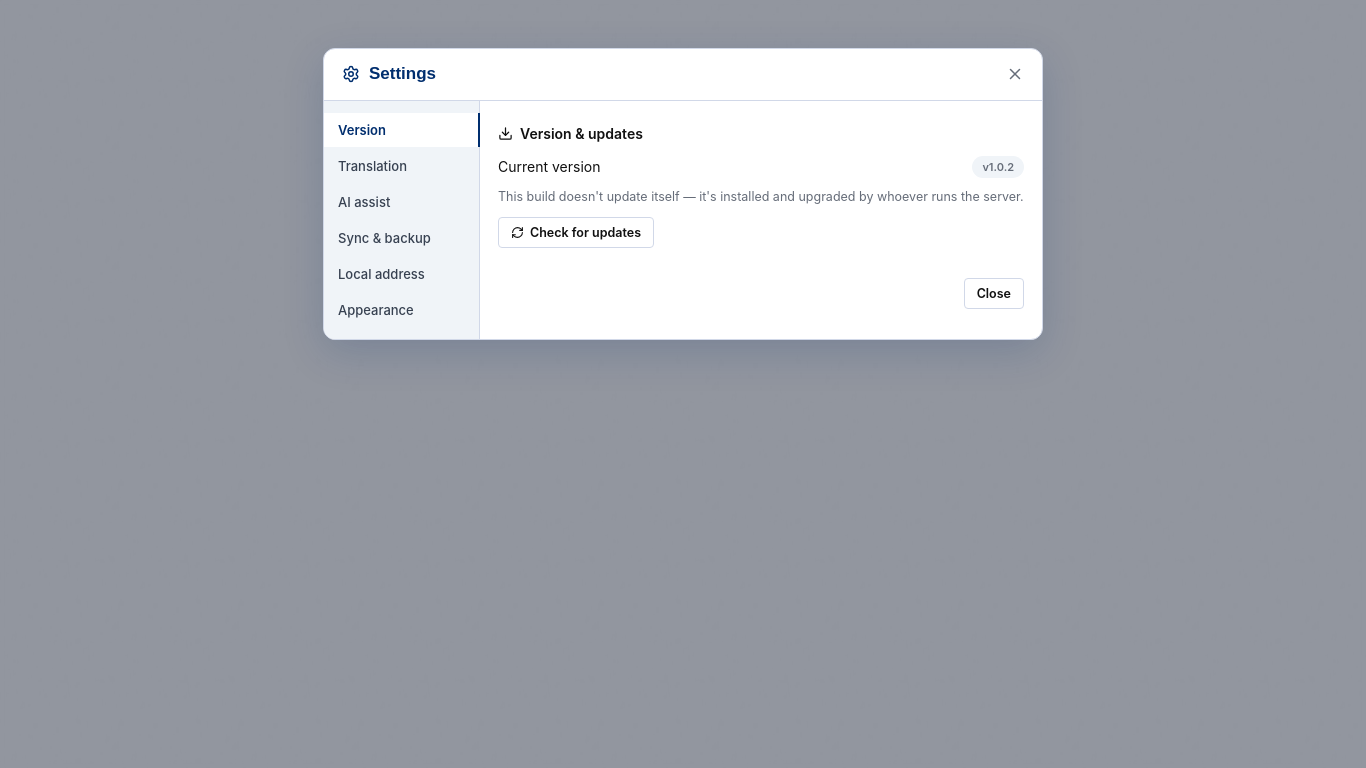
Test case: <SettingsModal> › a build that cannot install its own updates › says so when there is nothing newer
The image size is (1366, 768).
What coordinates should you click on to do the following:
click the button "Check for updates"
I would click on:
 (576, 232)
Its box is [498,217,654,248].
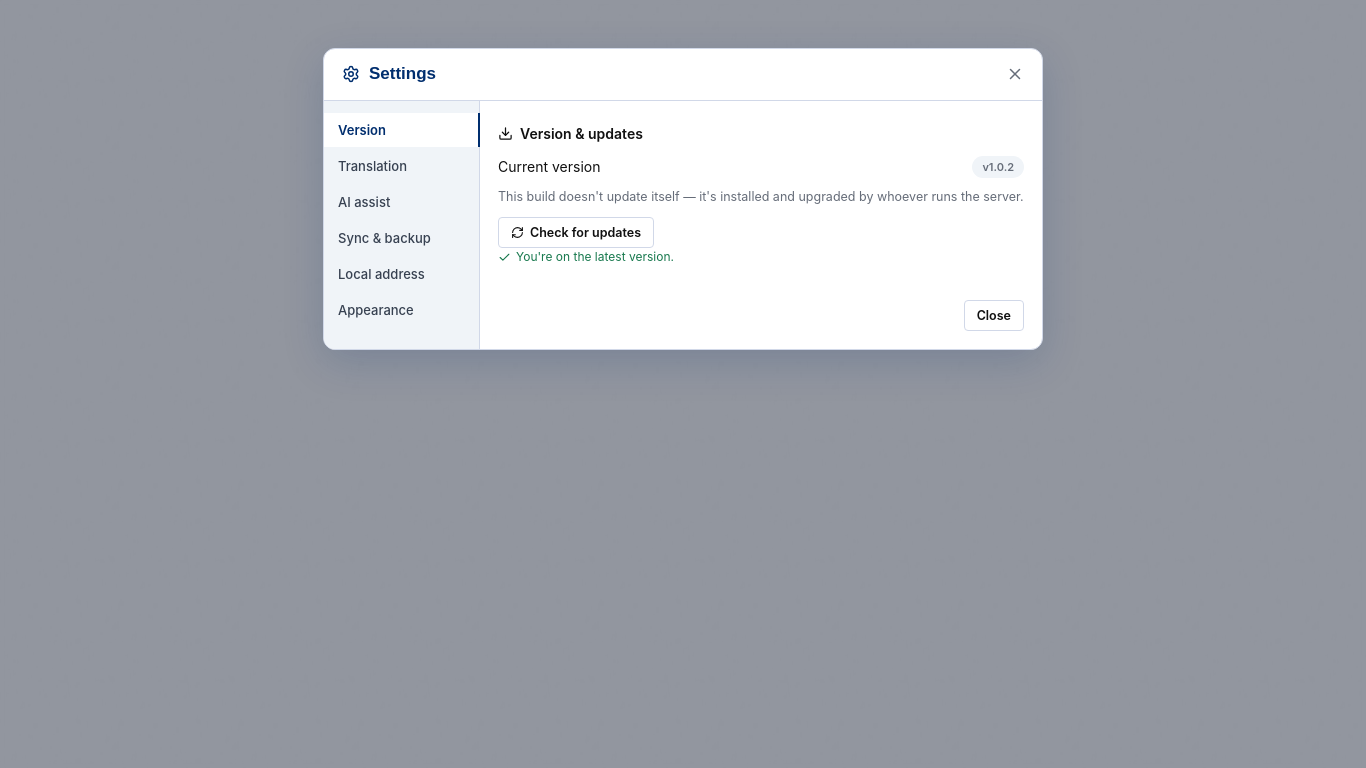
Check: the text "You're on the latest version." is shown, box [498,248,674,266]
